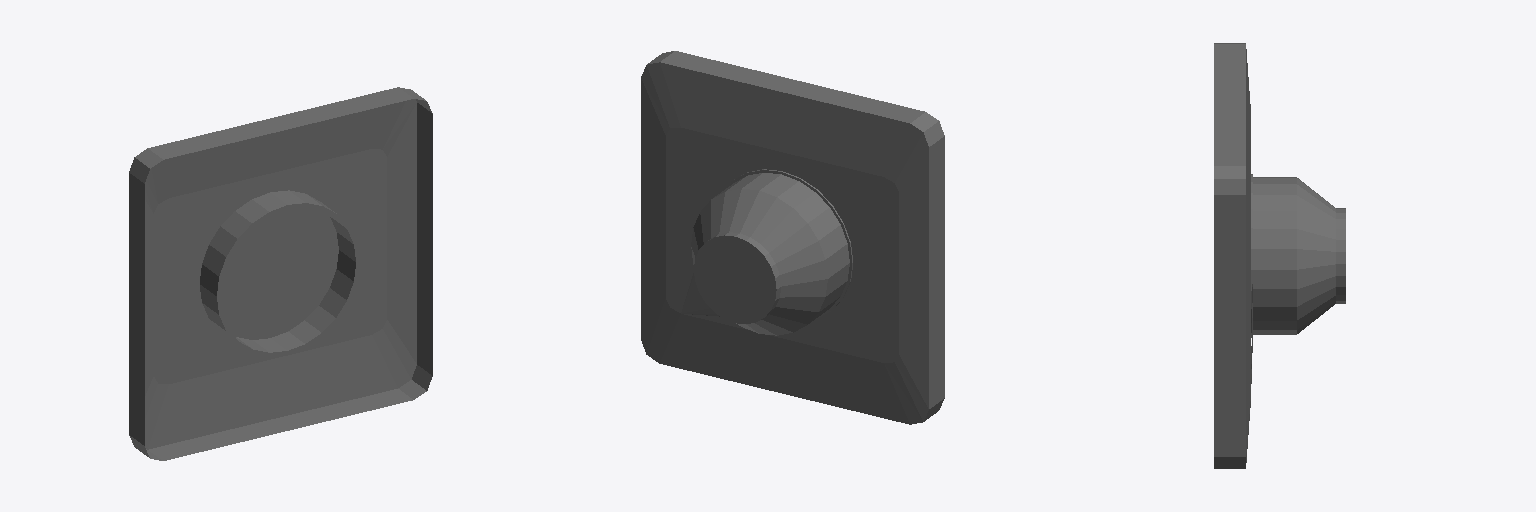
Rendered from PowerSocket.obj.
3 views of the same model, side by side, from view 1: azimuth 30°, elevation 25°; view 2: azimuth 150°, elevation 25°; view 3: azimuth 270°, elevation 25° (orthographic).
Visible parts, largest first — view 1: Mesh; view 2: Mesh; view 3: Mesh.
Part boxes in pixels (bbox=[...]): Mesh: bbox=[129, 87, 432, 460]; Mesh: bbox=[641, 51, 944, 424]; Mesh: bbox=[1214, 43, 1345, 468].
Bounding box in the file's own units: 1 × 1 × 0.3941.